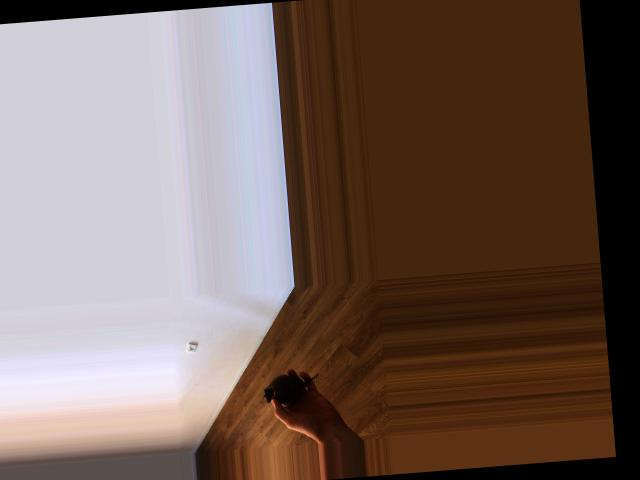beet: (263, 371, 320, 407)
